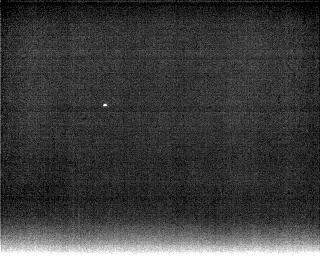BIRD: (101, 101, 109, 109)
